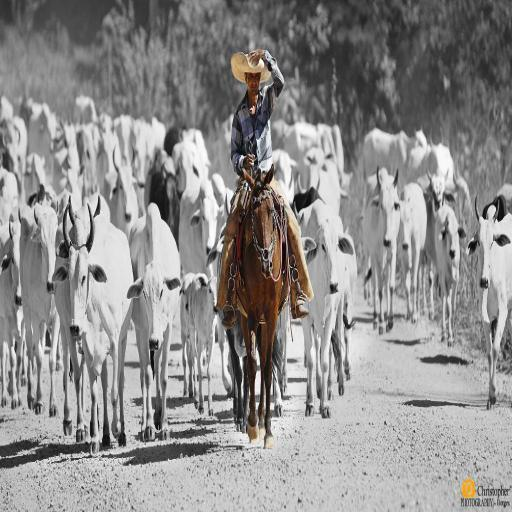horse: (230, 158, 292, 454)
